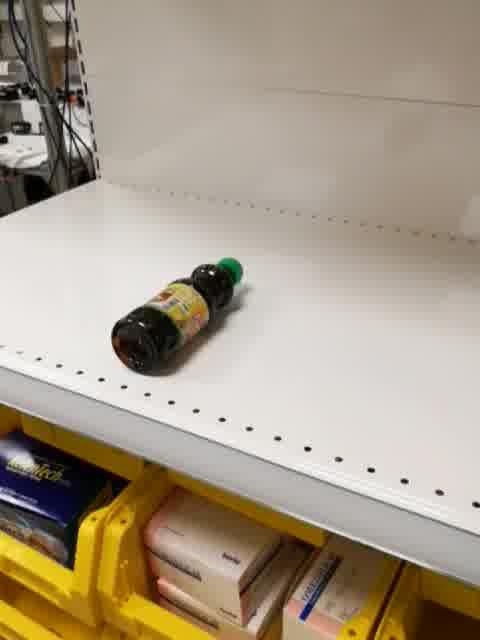cookingoil: (110, 254, 244, 376)
